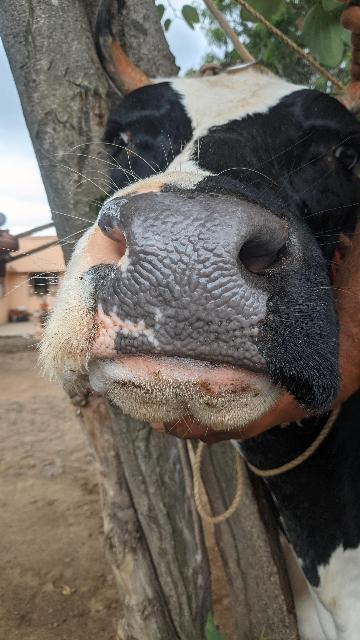Muzzle: (103, 200, 261, 362)
